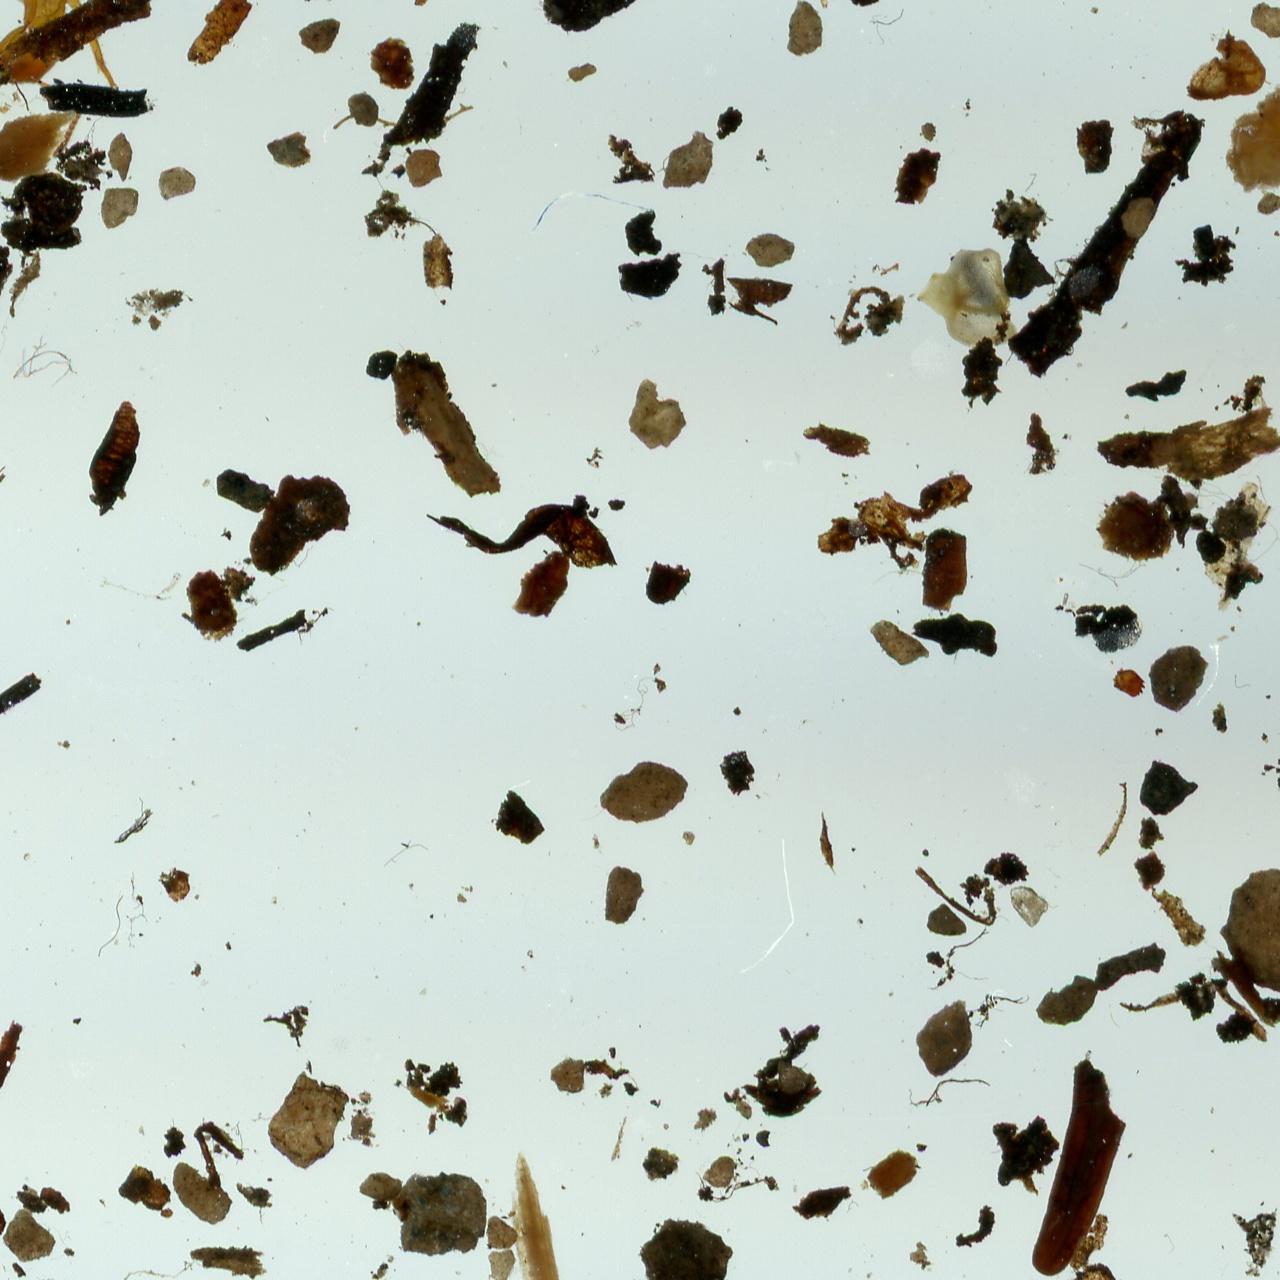arthropod: (0, 0, 148, 163)
